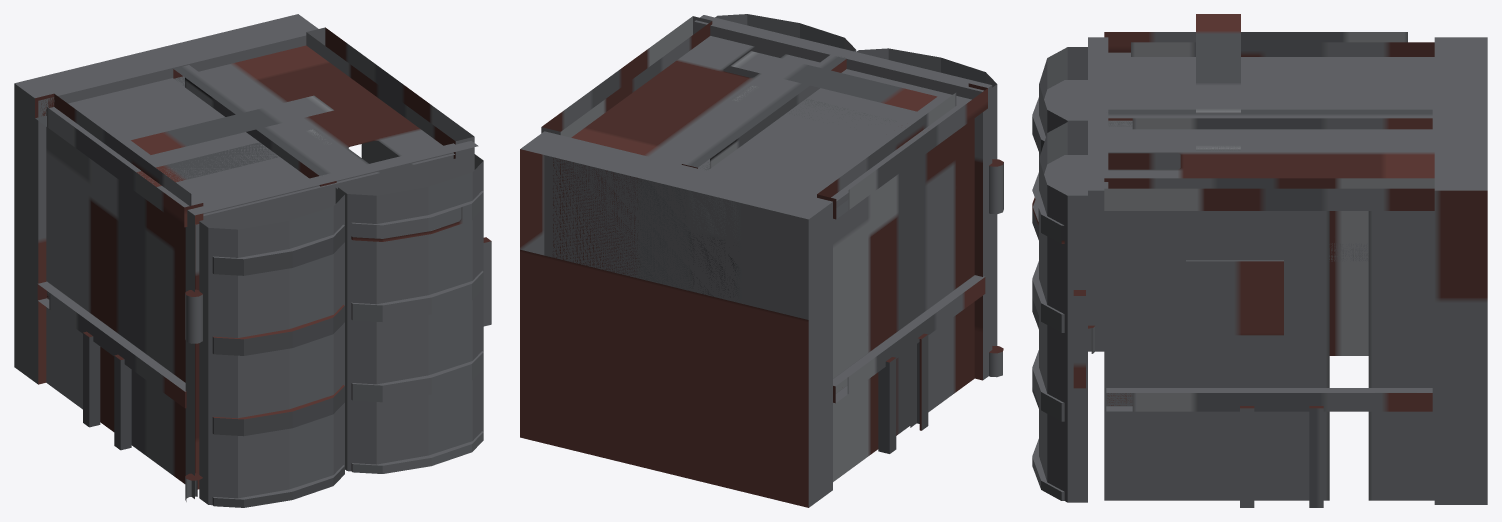
File: section-0.obj
The picture shows the model from 3 angles, left to right: view 1: azimuth 30°, elevation 25°; view 2: azimuth 150°, elevation 25°; view 3: azimuth 270°, elevation 25°; orthographic projection. The views are drawn at different scales.
Bounding box in the file's own units: 0.94 × 0.92 × 1.12.
